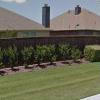Chimney: (35, 0, 58, 35)
